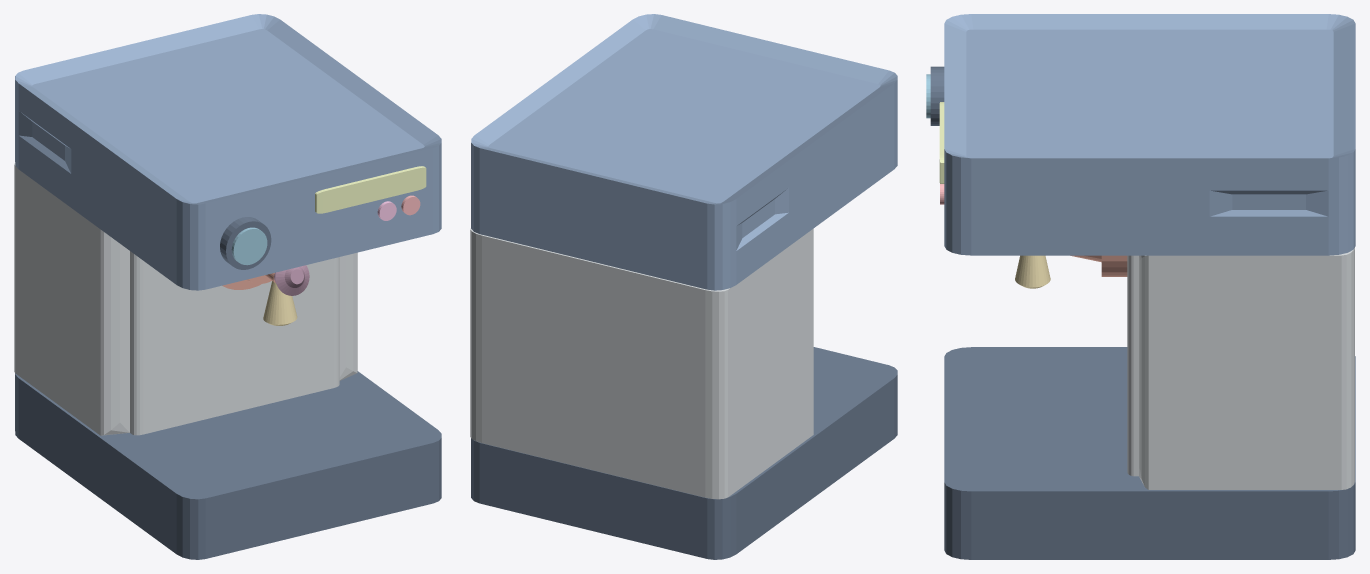
The model's file is MilkMachine.fbx.
3 renders of one model, left to right at view 1: azimuth 30°, elevation 25°; view 2: azimuth 150°, elevation 25°; view 3: azimuth 270°, elevation 25°, orthographic. The views are drawn at different scales.
Parts seen in each view (by area): view 1: Head, Body, Bottom, Cube, Cylinder, Cylinder.005, Cylinder.006, Cylinder.004; view 2: Head, Body, Bottom; view 3: Head, Bottom, Body, Cylinder.006, Cylinder, Cylinder.003.
Part boxes in pixels (bbox=[...]): Head: bbox=[15, 14, 441, 290]; Body: bbox=[14, 162, 357, 435]; Bottom: bbox=[15, 371, 441, 559]; Cube: bbox=[315, 166, 426, 213]; Cylinder: bbox=[220, 217, 271, 269]; Cylinder.005: bbox=[231, 227, 267, 265]; Cylinder.006: bbox=[263, 281, 297, 325]; Cylinder.004: bbox=[274, 265, 309, 295]; Head: bbox=[471, 14, 897, 290]; Body: bbox=[470, 228, 813, 499]; Bottom: bbox=[471, 347, 897, 559]; Head: bbox=[944, 14, 1355, 255]; Bottom: bbox=[944, 347, 1355, 559]; Body: bbox=[1127, 247, 1354, 489]; Cylinder.006: bbox=[1015, 255, 1050, 288]; Cylinder: bbox=[930, 66, 944, 125]; Cylinder.003: bbox=[1070, 255, 1127, 276].
Bounding box in the file's own units: 340 × 442 × 428.
